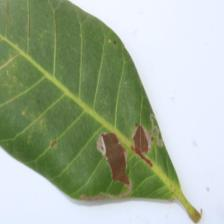leaf miner: (0, 0, 202, 223)
